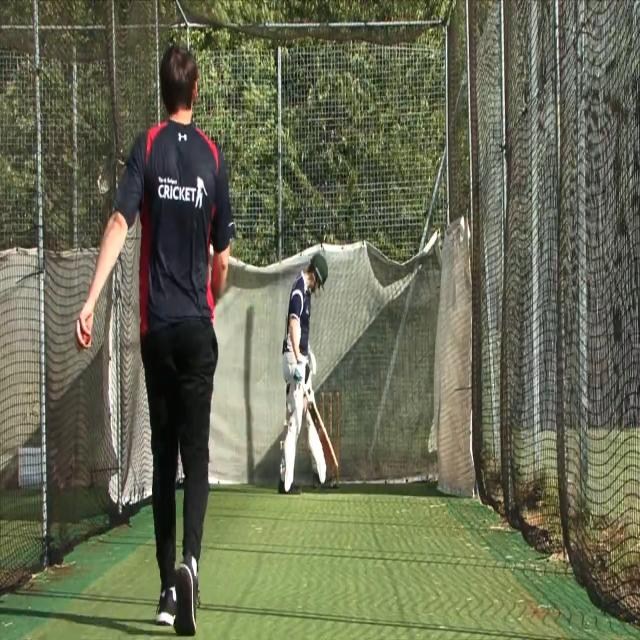batsman: (276, 250, 340, 499)
